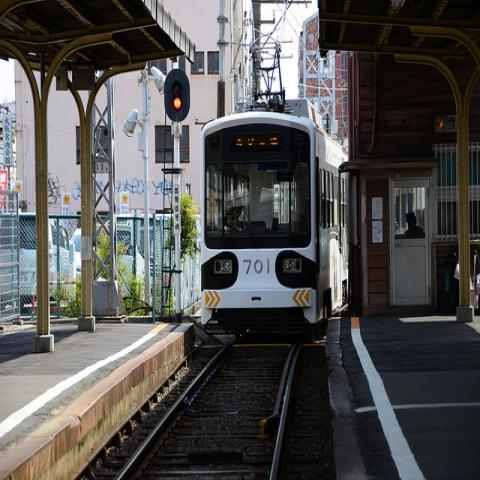car: (1, 213, 74, 301), (117, 224, 146, 299)
